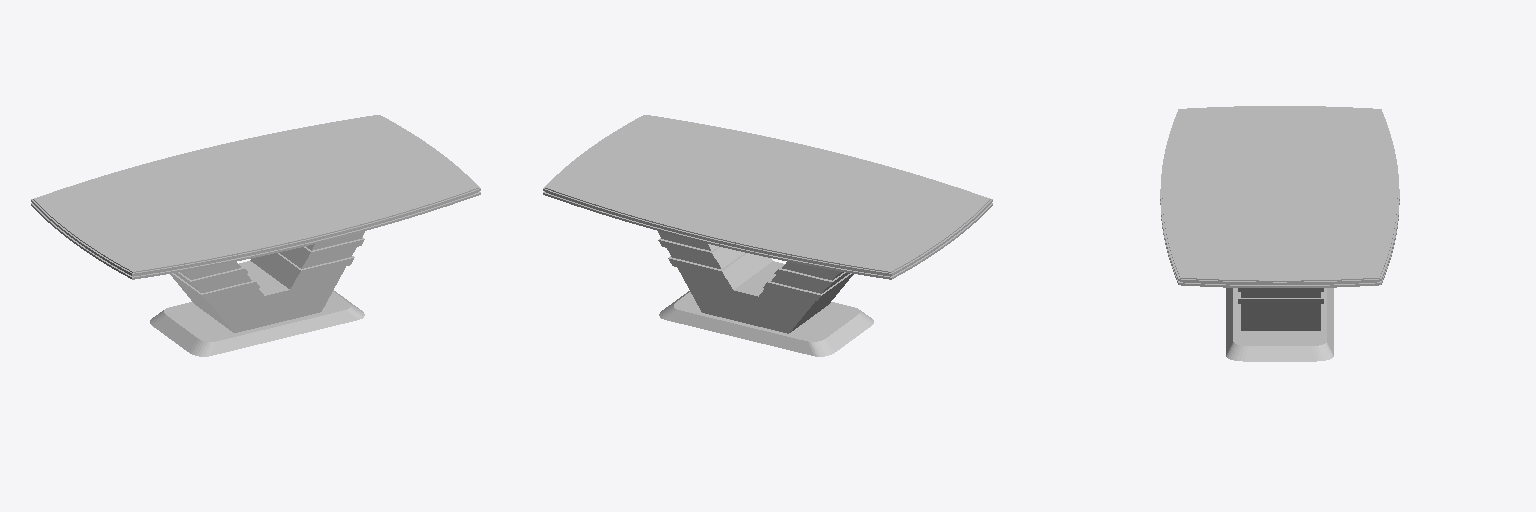
Rendered from Table N080817.obj.
3 renders of one model, left to right at view 1: azimuth 30°, elevation 25°; view 2: azimuth 150°, elevation 25°; view 3: azimuth 270°, elevation 25°, orthographic.
Visible parts, largest first — view 1: Arc014_4, Line019_3, Rectangle0_2, Line020_0, Arc018_inst_2_1, Arc018_1; view 2: Arc014_4, Line019_3, Rectangle0_2, Line020_0, Arc018_inst_2_1, Arc018_1; view 3: Arc014_4, Rectangle0_2, Line019_3, Arc018_inst_2_1, Line020_0, Arc018_1.
Part boxes in pixels (left/top/right/bottom): Arc014_4: left=33, top=115, right=478, bottom=279; Line019_3: left=171, top=231, right=364, bottom=332; Rectangle0_2: left=150, top=290, right=364, bottom=356; Line020_0: left=170, top=237, right=364, bottom=300; Arc018_inst_2_1: left=31, top=117, right=480, bottom=275; Arc018_1: left=31, top=191, right=480, bottom=279; Arc014_4: left=545, top=115, right=990, bottom=279; Line019_3: left=658, top=231, right=852, bottom=333; Rectangle0_2: left=659, top=291, right=873, bottom=356; Line020_0: left=658, top=238, right=853, bottom=300; Arc018_inst_2_1: left=543, top=117, right=992, bottom=275; Arc018_1: left=543, top=191, right=992, bottom=279; Arc014_4: left=1162, top=106, right=1397, bottom=287; Rectangle0_2: left=1226, top=288, right=1333, bottom=361; Line019_3: left=1241, top=292, right=1320, bottom=330; Arc018_inst_2_1: left=1160, top=109, right=1399, bottom=283; Line020_0: left=1238, top=288, right=1323, bottom=303; Arc018_1: left=1160, top=201, right=1399, bottom=287.
Size of the model in its own units: 4324 by 1434 by 2476.